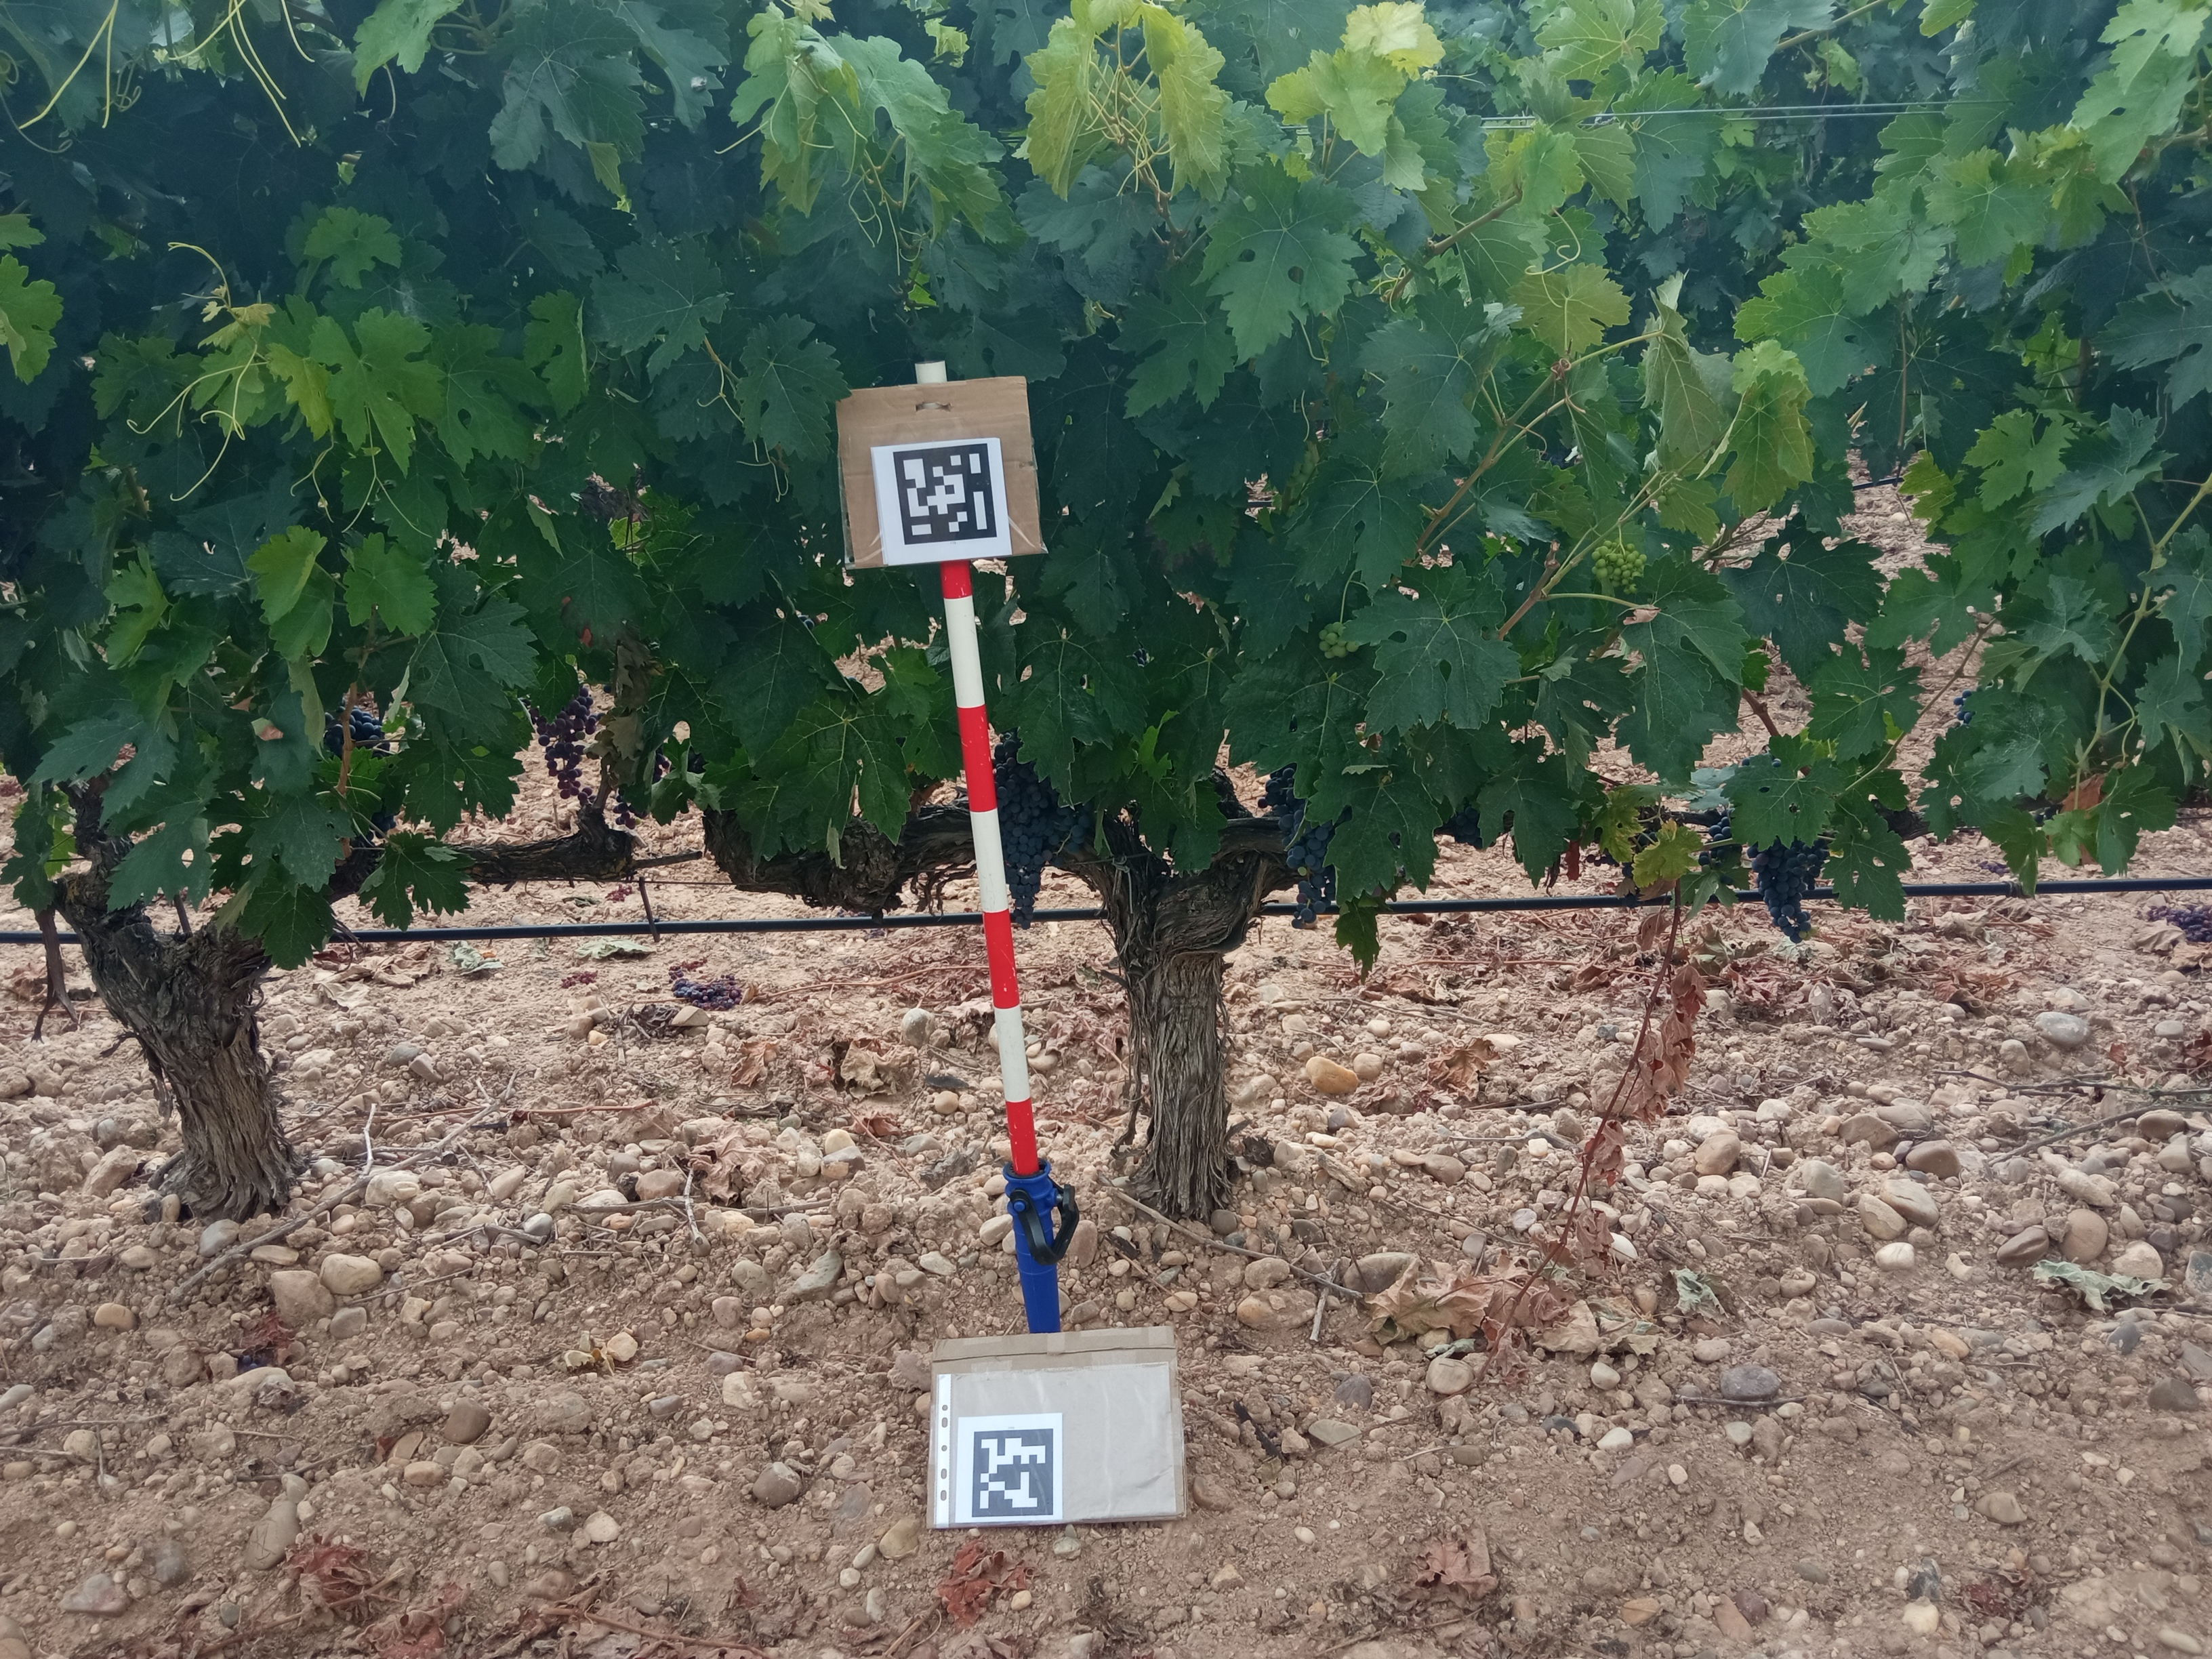grapes: (993, 732, 1101, 843), (531, 681, 599, 805), (1747, 842, 1824, 945), (1258, 763, 1332, 864), (1003, 843, 1061, 927), (1289, 863, 1341, 932), (326, 701, 394, 753), (1592, 540, 1651, 599), (1696, 809, 1735, 861), (1313, 620, 1362, 659), (1285, 444, 1320, 493), (1949, 683, 1982, 732), (611, 791, 648, 835), (1456, 807, 1487, 850), (651, 749, 672, 781)
